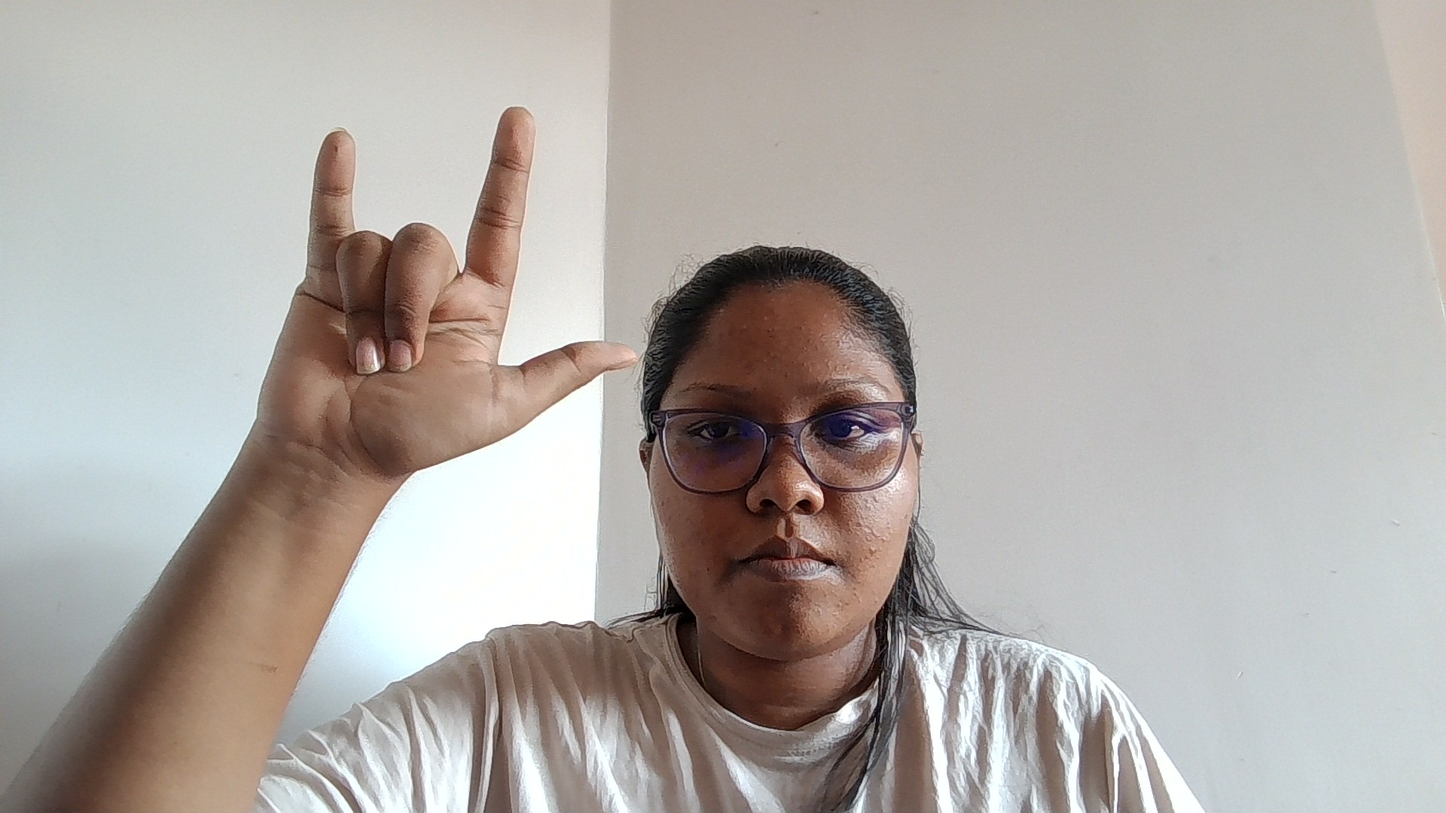I Love You: (250, 68, 652, 590)
